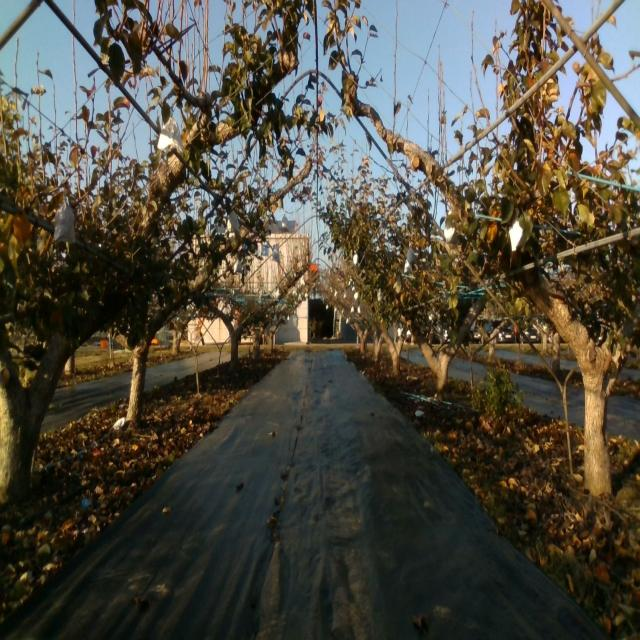pearbags: (156, 113, 186, 156), (54, 196, 75, 245), (508, 216, 526, 253), (227, 210, 240, 233), (444, 220, 456, 243), (279, 213, 289, 232)
